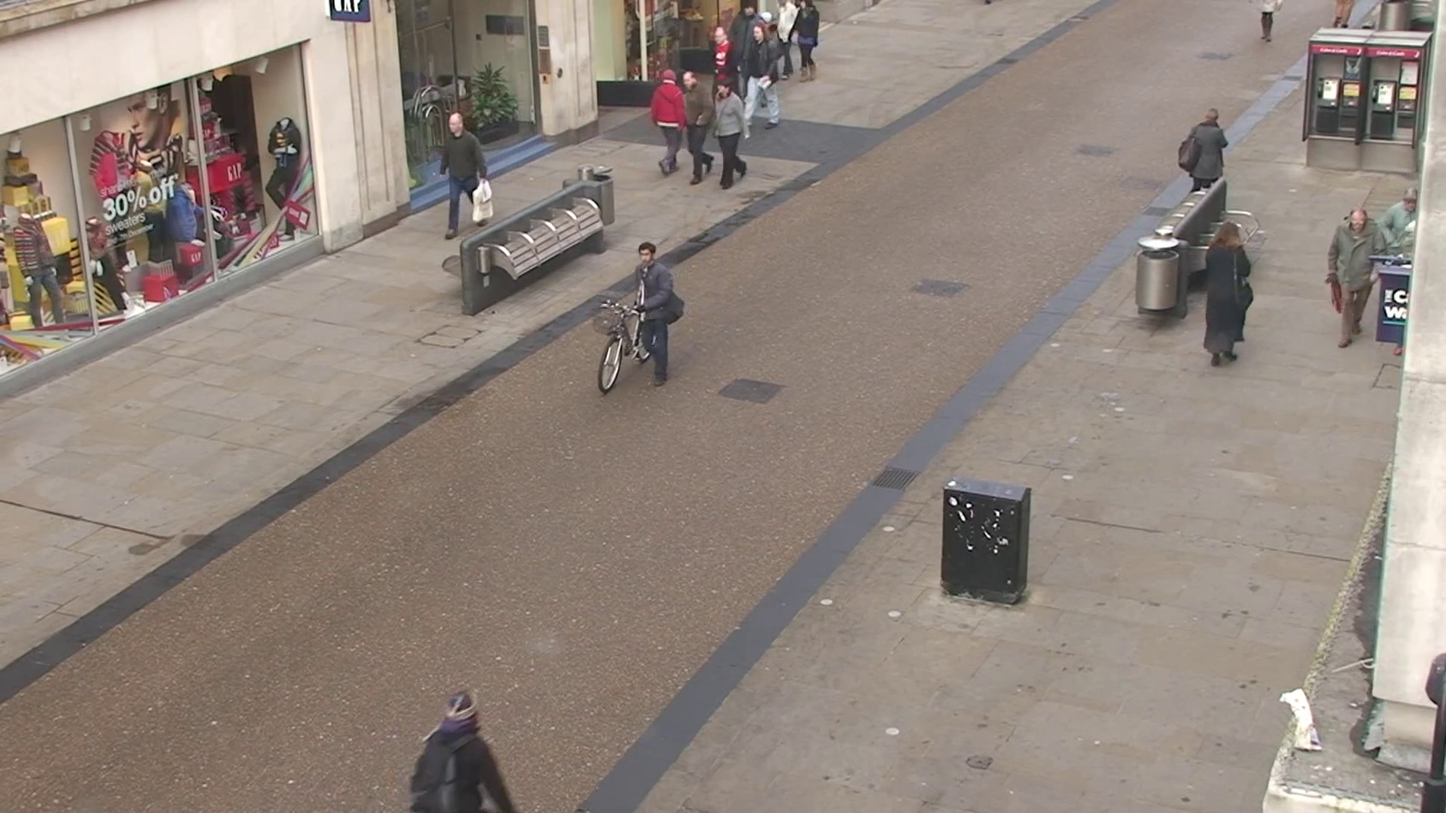person: (626, 239, 688, 385), (1201, 217, 1255, 367), (1328, 206, 1378, 347), (438, 108, 491, 240), (739, 11, 788, 126), (264, 117, 306, 239), (648, 63, 691, 179), (710, 79, 749, 189), (1179, 109, 1229, 189), (682, 69, 717, 182), (791, 1, 821, 81)
